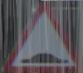Speed Breaker ahead: (11, 7, 71, 69)
